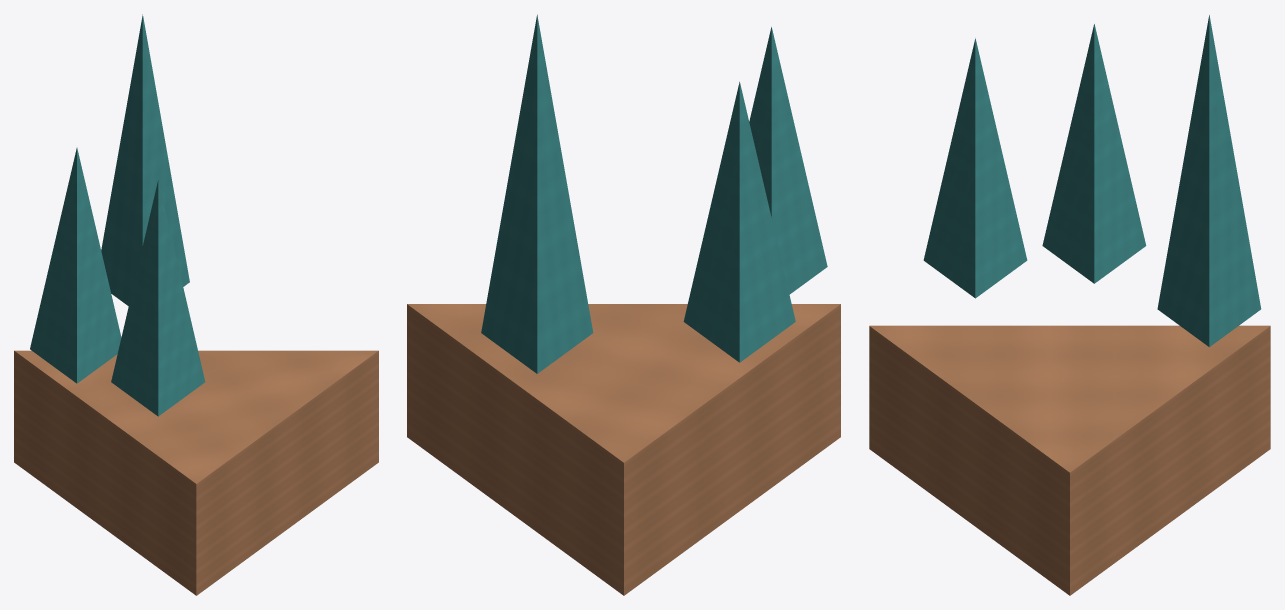
File: atlas100-s091-a12.lod2.glb
3 renders of one model, left to right at view 1: azimuth 30°, elevation 25°; view 2: azimuth 150°, elevation 25°; view 3: azimuth 270°, elevation 25°, orthographic. The views are drawn at different scales.
Parts seen in each view (by area): view 1: atlas100-s091-a12:part-000, atlas100-s091-a12:part-002, atlas100-s091-a12:part-005, atlas100-s091-a12:part-003; view 2: atlas100-s091-a12:part-000, atlas100-s091-a12:part-003, atlas100-s091-a12:part-005, atlas100-s091-a12:part-002; view 3: atlas100-s091-a12:part-000, atlas100-s091-a12:part-003, atlas100-s091-a12:part-002, atlas100-s091-a12:part-005.
Part boxes in pixels (x1=…): atlas100-s091-a12:part-000: x1=14, y1=350, x2=378, y2=595; atlas100-s091-a12:part-002: x1=111, y1=180, x2=205, y2=416; atlas100-s091-a12:part-005: x1=30, y1=147, x2=121, y2=383; atlas100-s091-a12:part-003: x1=101, y1=14, x2=189, y2=305; atlas100-s091-a12:part-000: x1=407, y1=304, x2=840, y2=595; atlas100-s091-a12:part-003: x1=481, y1=14, x2=593, y2=373; atlas100-s091-a12:part-005: x1=683, y1=81, x2=795, y2=362; atlas100-s091-a12:part-002: x1=749, y1=27, x2=827, y2=294; atlas100-s091-a12:part-000: x1=869, y1=325, x2=1270, y2=595; atlas100-s091-a12:part-003: x1=1157, y1=15, x2=1261, y2=347; atlas100-s091-a12:part-002: x1=923, y1=38, x2=1027, y2=298; atlas100-s091-a12:part-005: x1=1042, y1=24, x2=1146, y2=283.
Size of the model in its own units: 0.9996 by 1.35 by 1.
2 materials, 2 textured.
